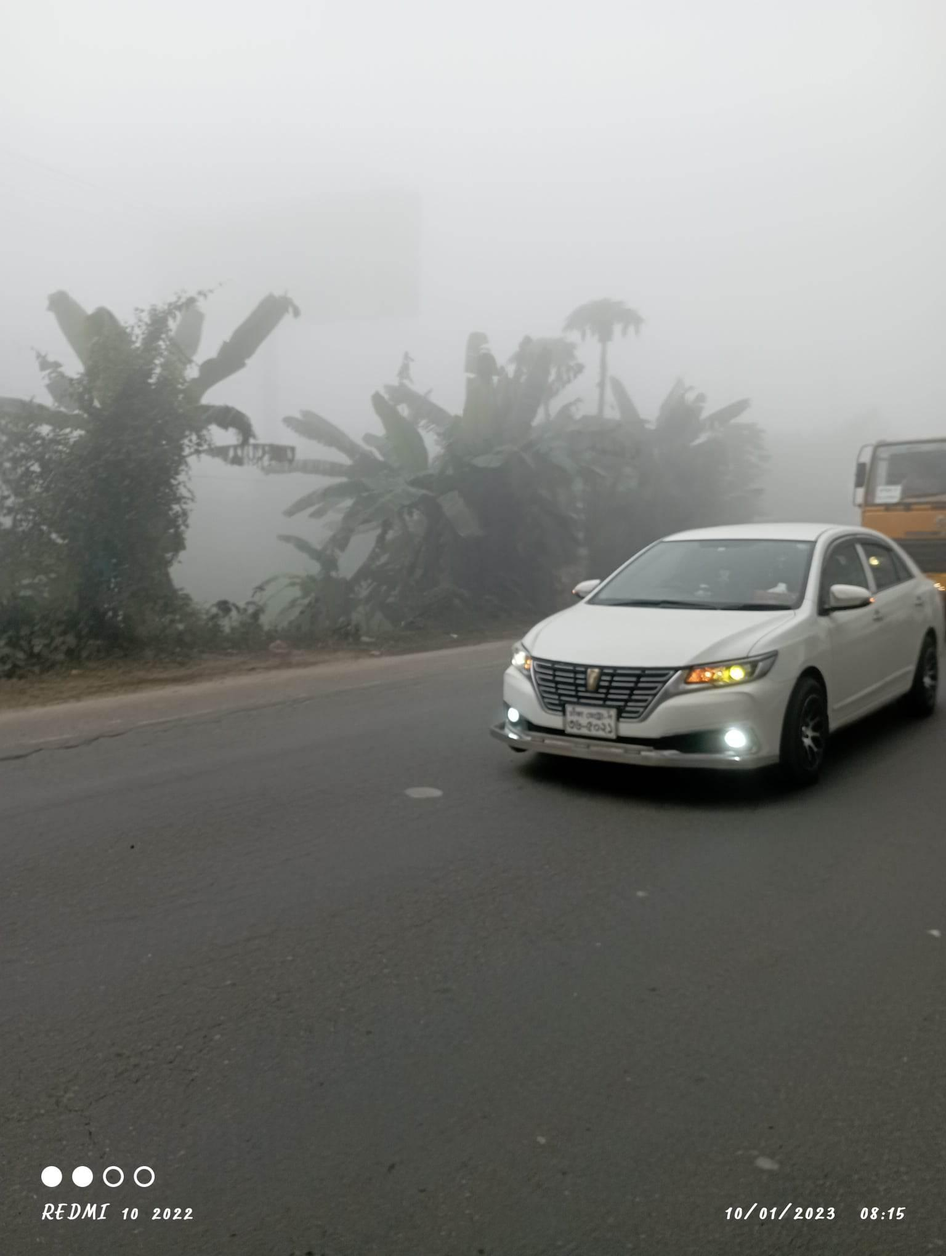Car: (504, 504, 940, 831)
Truck: (852, 404, 946, 672)
